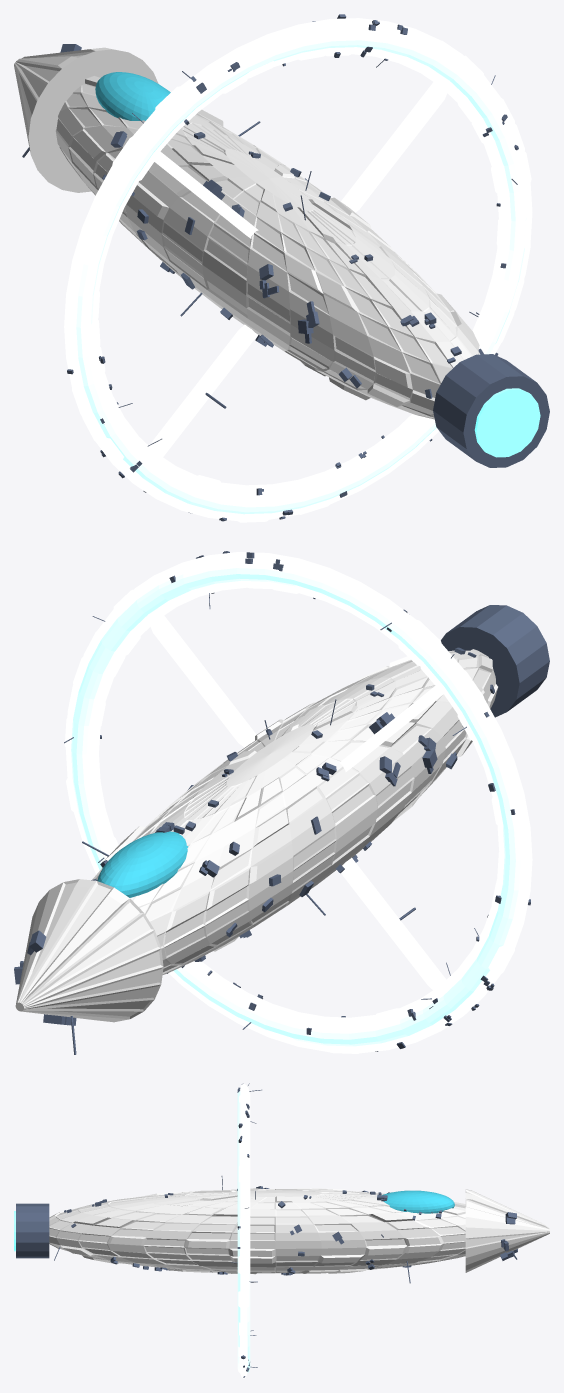
The model's file is vossari_cruiser.glb.
The picture shows the model from 3 angles, top to bottom: view 1: azimuth 30°, elevation 25°; view 2: azimuth 150°, elevation 25°; view 3: azimuth 270°, elevation 25°; orthographic projection. The views are drawn at different scales.
Parts seen in each view (by area): view 1: vossari_cruiser; view 2: vossari_cruiser; view 3: vossari_cruiser.
Boxes of the visible parts, box(x1,y1,x2,y2) form: vossari_cruiser: box(14, 14, 549, 522); vossari_cruiser: box(14, 551, 549, 1054); vossari_cruiser: box(14, 1083, 549, 1378).
Bounding box in the file's own units: 5.51 × 5.52 × 10.
